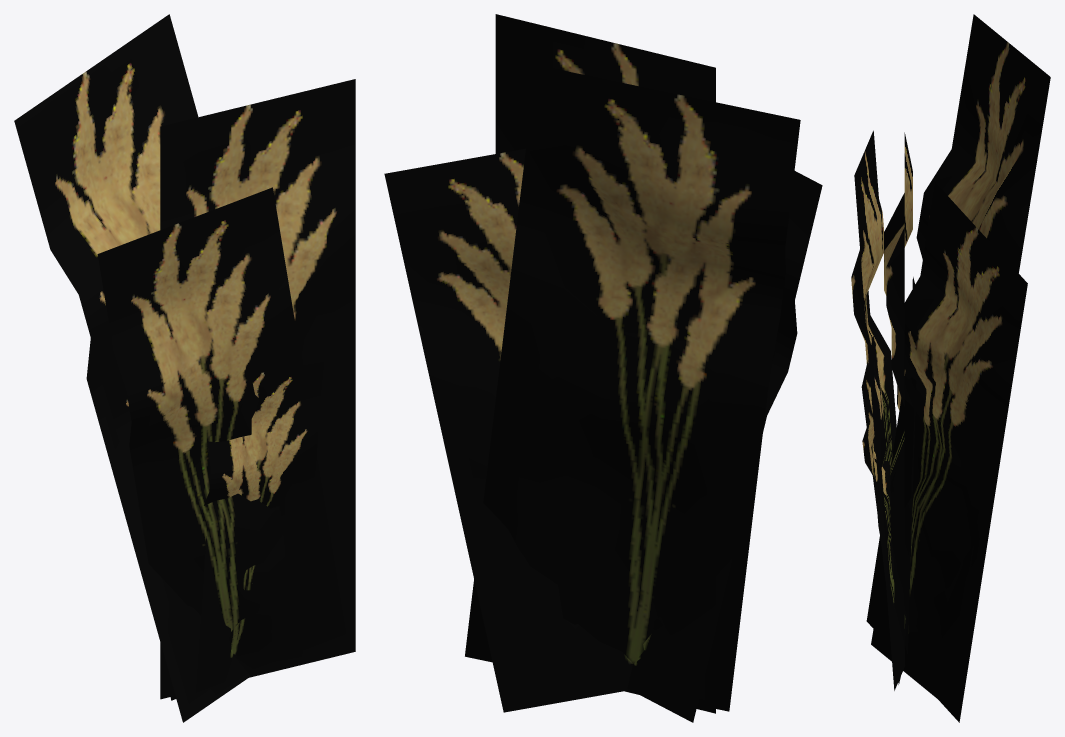
The model's file is GrassClump02.fbx.
The picture shows the model from 3 angles, left to right: view 1: azimuth 30°, elevation 25°; view 2: azimuth 150°, elevation 25°; view 3: azimuth 270°, elevation 25°; orthographic projection. The views are drawn at different scales.
Visible parts, largest first — view 1: GrassClump02; view 2: GrassClump02; view 3: GrassClump02.
Part boxes in pixels (x1,y1,x2,y2): GrassClump02: (14, 14, 355, 722); GrassClump02: (384, 14, 822, 722); GrassClump02: (851, 14, 1050, 722).
Size of the model in its own units: 6.54 by 11.48 by 3.41.
